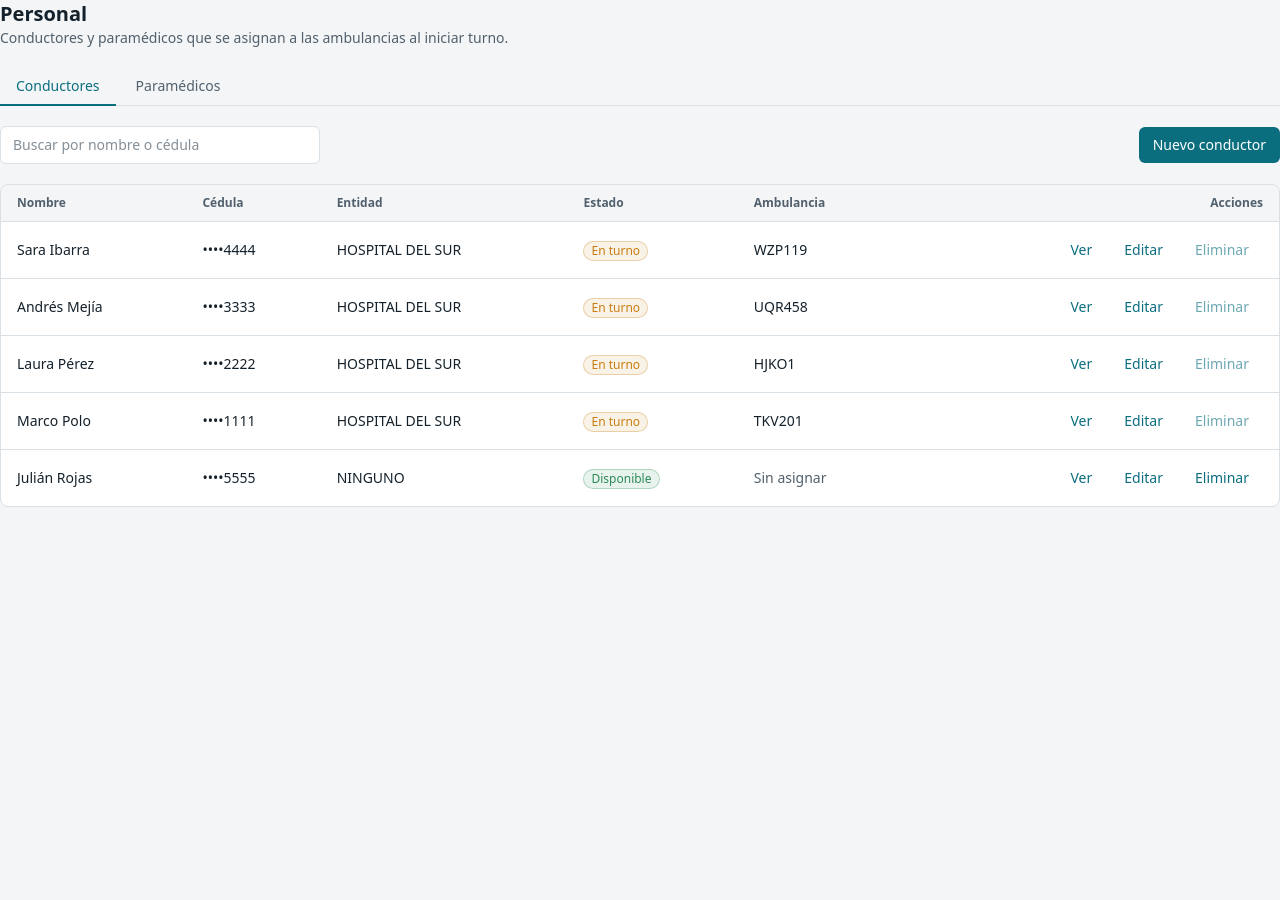
Test: StaffPage · conductores › no permite eliminar a quien está en turno, y sí a quien está disponible
The width and height of the screenshot is (1280, 900).
Expected: the text "Sara Ibarra" is shown, left=17, top=240, right=90, bottom=259
Expected: the button with aria-label "Eliminar Marco Polo" is disabled, left=1181, top=403, right=1263, bottom=439
Click the button with aria-label "Eliminar Julián Rojas" at [1222, 478], box left=1181, top=460, right=1263, bottom=496
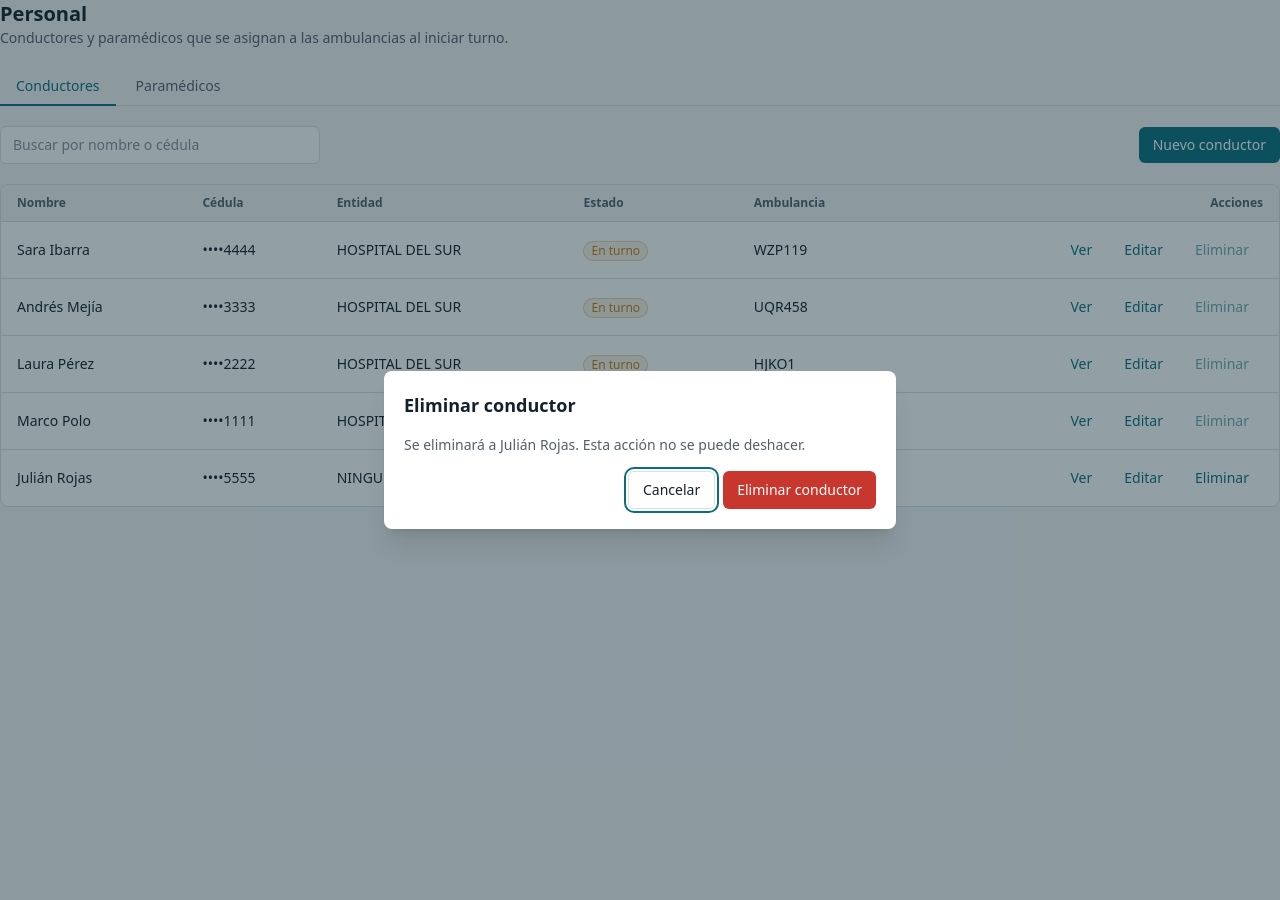
Click the button "Eliminar conductor" at [800, 490], box left=723, top=471, right=876, bottom=509
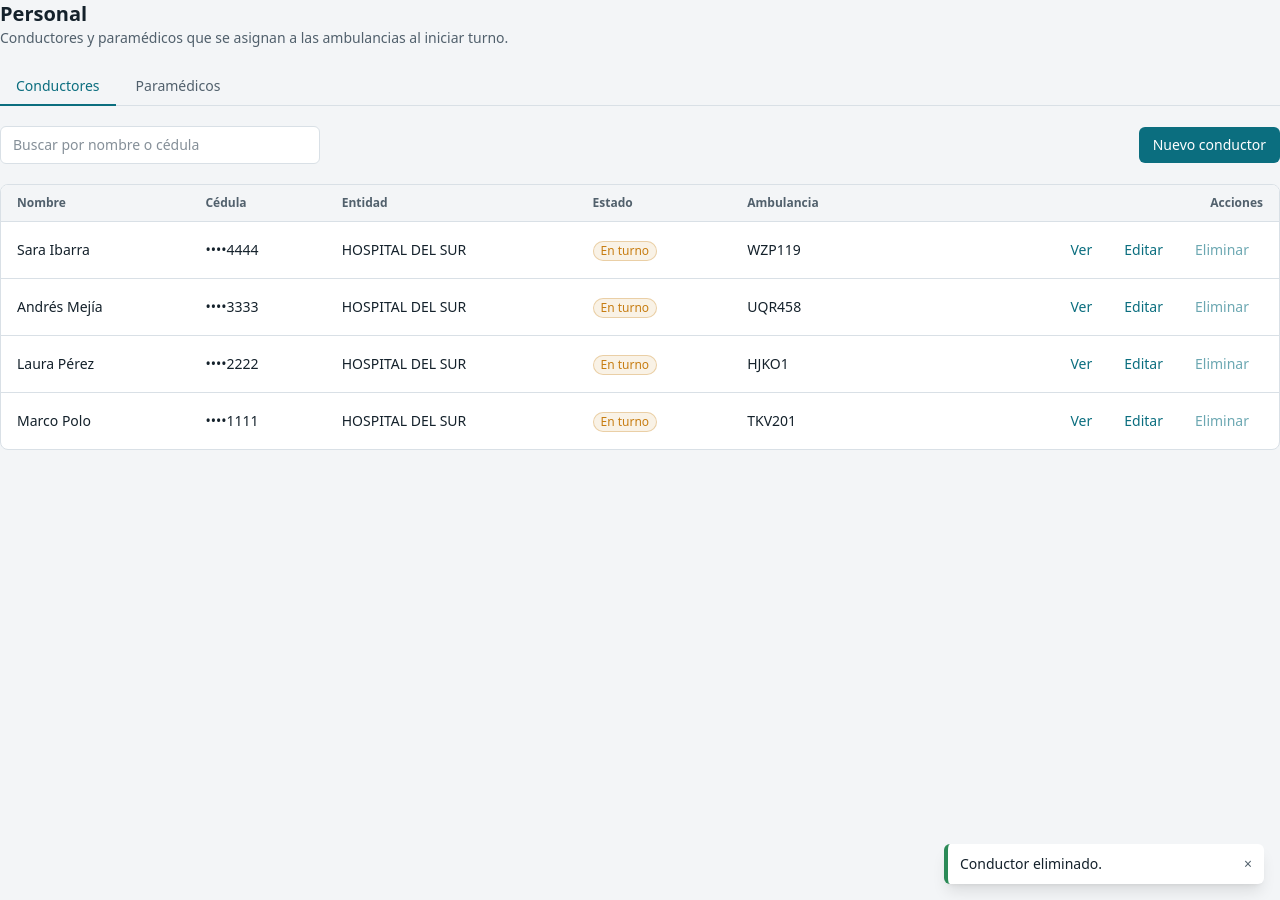
Expected: the text "Conductor eliminado." is shown, left=960, top=854, right=1102, bottom=874
Expected: the text "Julián Rojas" is gone
